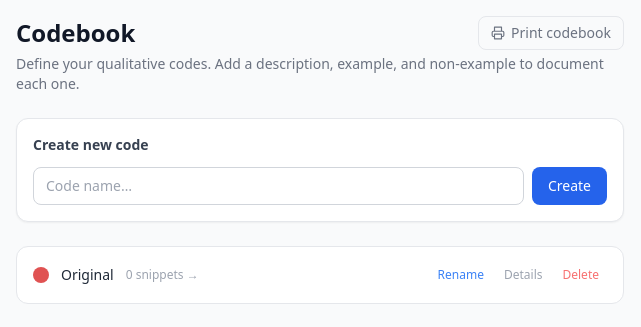
Test: TagManagerView › enters edit mode when Rename is clicked
The image size is (641, 327).
Click the button "Rename".
click(461, 275)  # box [430, 263, 492, 287]
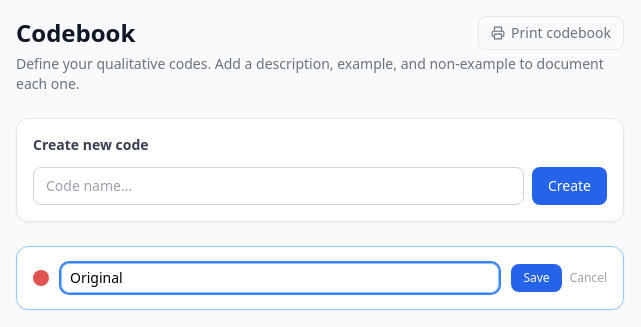
Now the field showing "Original" is shown, box [61, 263, 500, 293]
